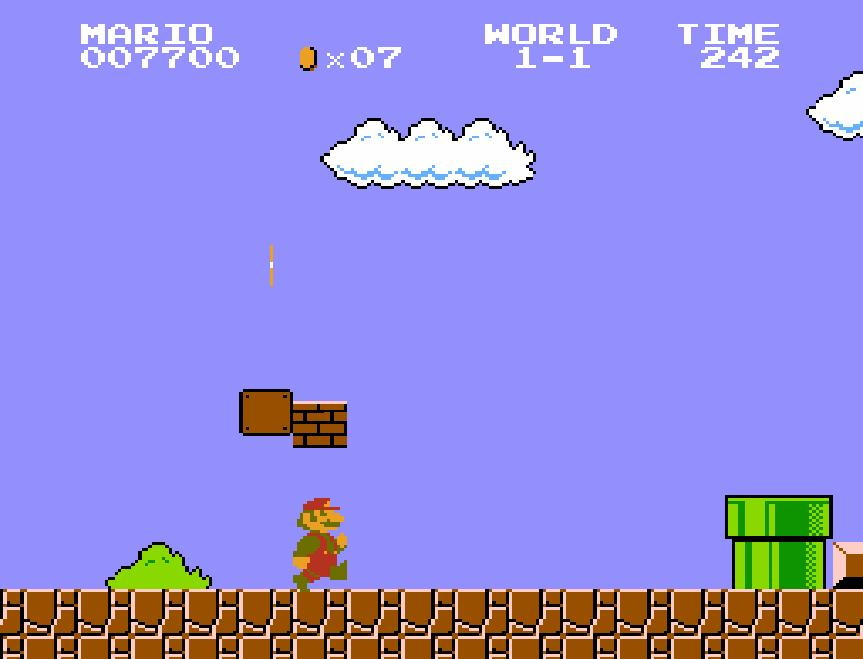big_mario: (291, 499, 349, 597)
